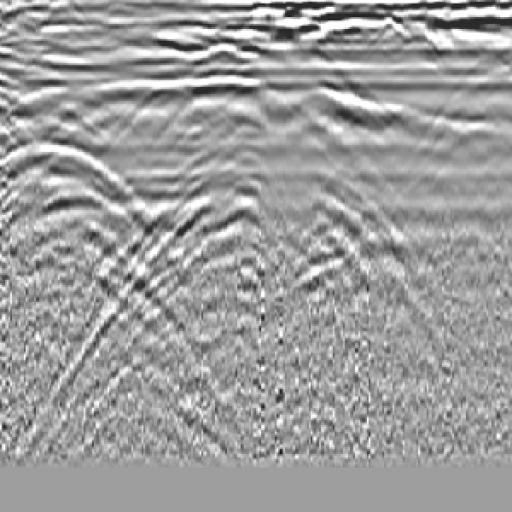metalic: (162, 34, 361, 314)
non-metallic: (1, 134, 171, 312)
